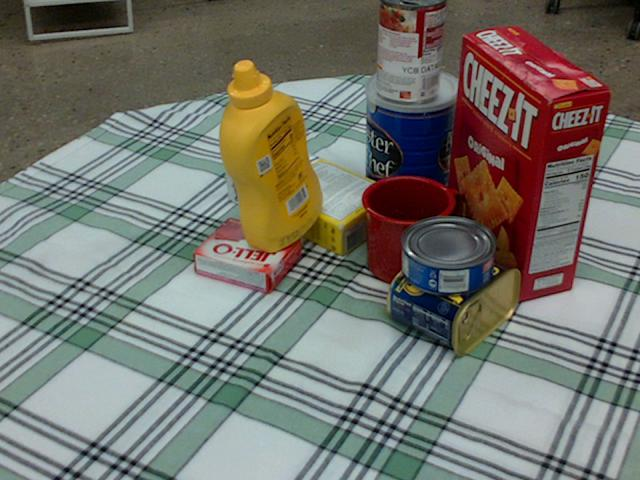cracker_box: (444, 26, 612, 298)
gelatin_box: (193, 219, 303, 294)
master_chef_can: (362, 66, 461, 220)
mug: (362, 175, 462, 286)
mustard_bottle: (219, 60, 321, 252)
potted_meat_can: (389, 236, 524, 352)
sugar_box: (223, 139, 394, 255)
tomato_soup_can: (377, 0, 446, 103)
tuna_fish_can: (401, 217, 496, 294)
